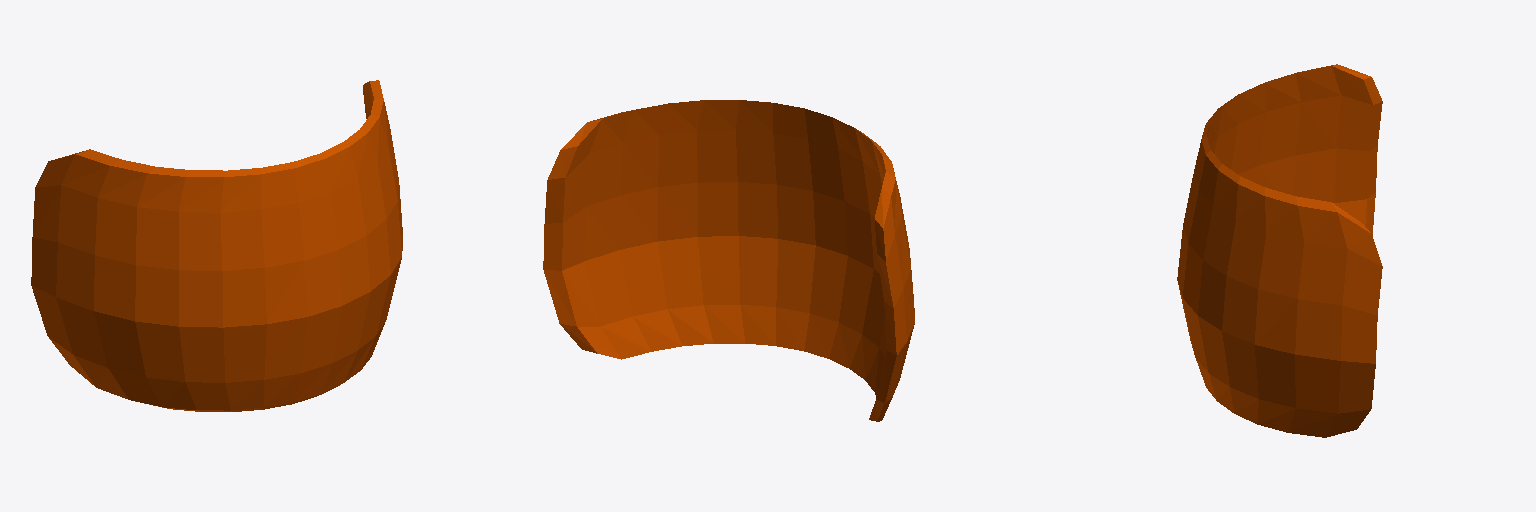
The model's file is faceplate.obj.
3 renders of one model, left to right at view 1: azimuth 30°, elevation 25°; view 2: azimuth 150°, elevation 25°; view 3: azimuth 270°, elevation 25°, orthographic.
Visible parts, largest first — view 1: Faceplate; view 2: Faceplate; view 3: Faceplate.
Boxes of the visible parts, box(x1,y1,x2,y2) form: Faceplate: box(31, 80, 402, 411); Faceplate: box(543, 100, 914, 421); Faceplate: box(1177, 64, 1382, 437).
Bounding box in the file's own units: 1.14 × 0.7536 × 0.5756.